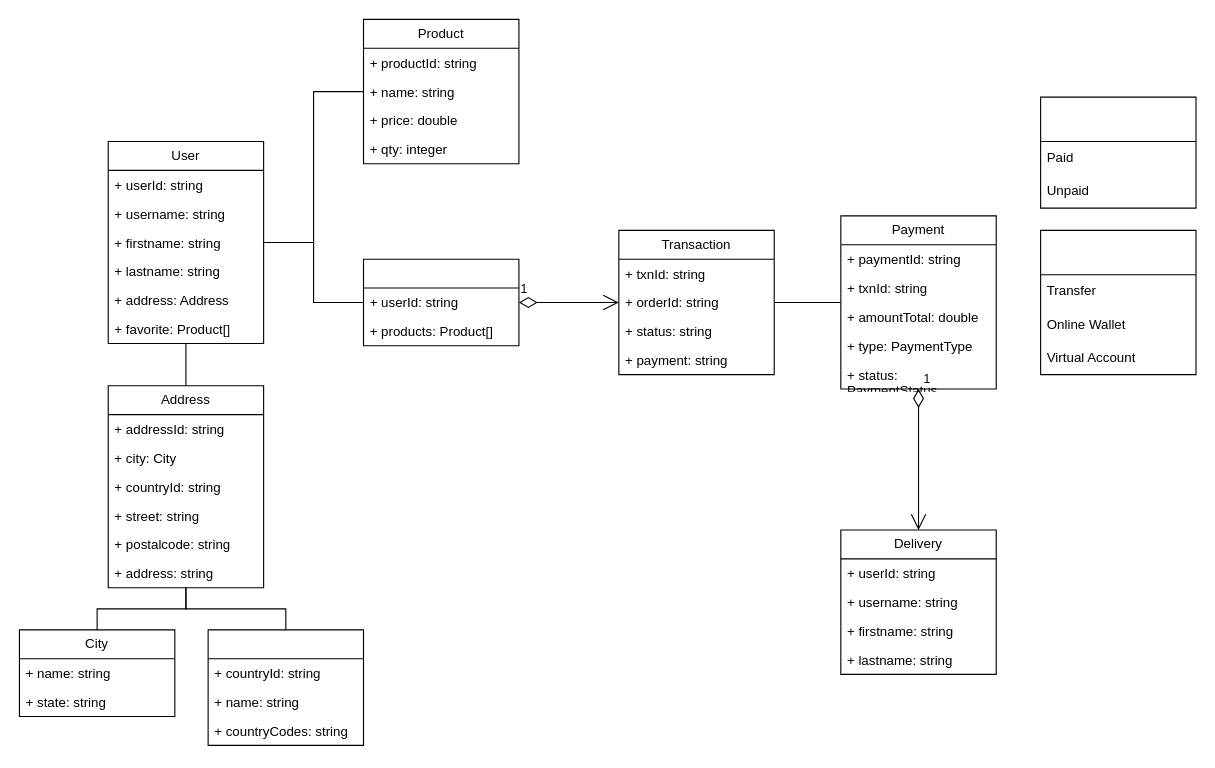
The diagram is 1215 pixels wide and 768 high, and some of its shapes have lost their labels. Each missing label, with the box of its shape:
<<enumeration>> PaymentStatus: (1040, 96, 1196, 208)
<<enumeration>> PaymentType: (1040, 229, 1196, 375)
CountryList: (207, 629, 364, 745)
Order: (362, 258, 519, 346)
